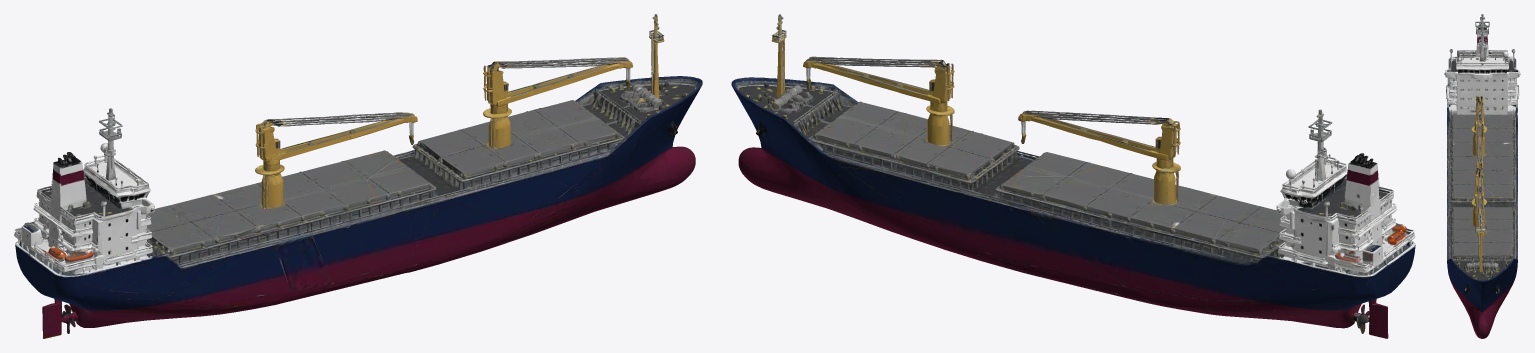
Rendered from 06_general_cargo_ship_120m.glb.
The picture shows the model from 3 angles, left to right: view 1: azimuth 30°, elevation 25°; view 2: azimuth 150°, elevation 25°; view 3: azimuth 270°, elevation 25°; orthographic projection. The views are drawn at different scales.
Visible parts, largest first — view 1: Mesh_0; view 2: Mesh_0; view 3: Mesh_0.
Boxes of the visible parts, <box> form: Mesh_0: <box>14,14,702,338</box>; Mesh_0: <box>731,14,1415,338</box>; Mesh_0: <box>1444,14,1520,338</box>.
Size of the model in its own units: 120 by 37.02 by 18.
Materials: 1 (1 with a texture image).
